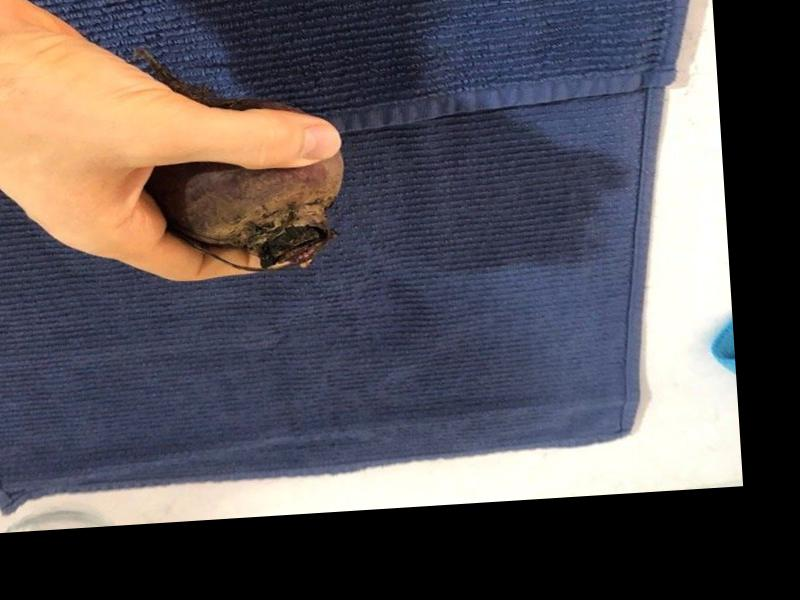Beet: (142, 33, 351, 276)
